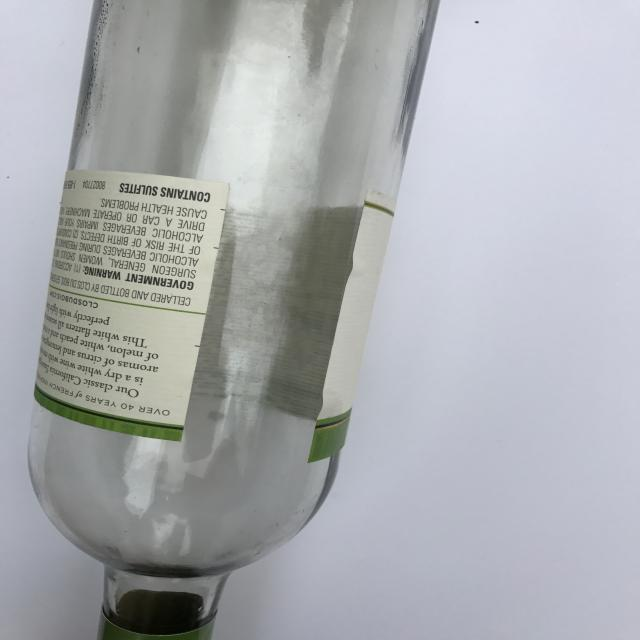glass: (26, 0, 439, 639)
